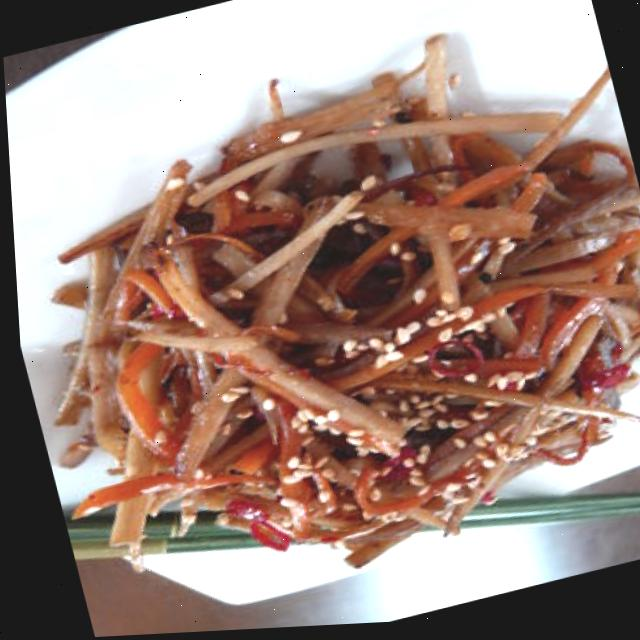蔬菜料理: (2, 18, 640, 640)
